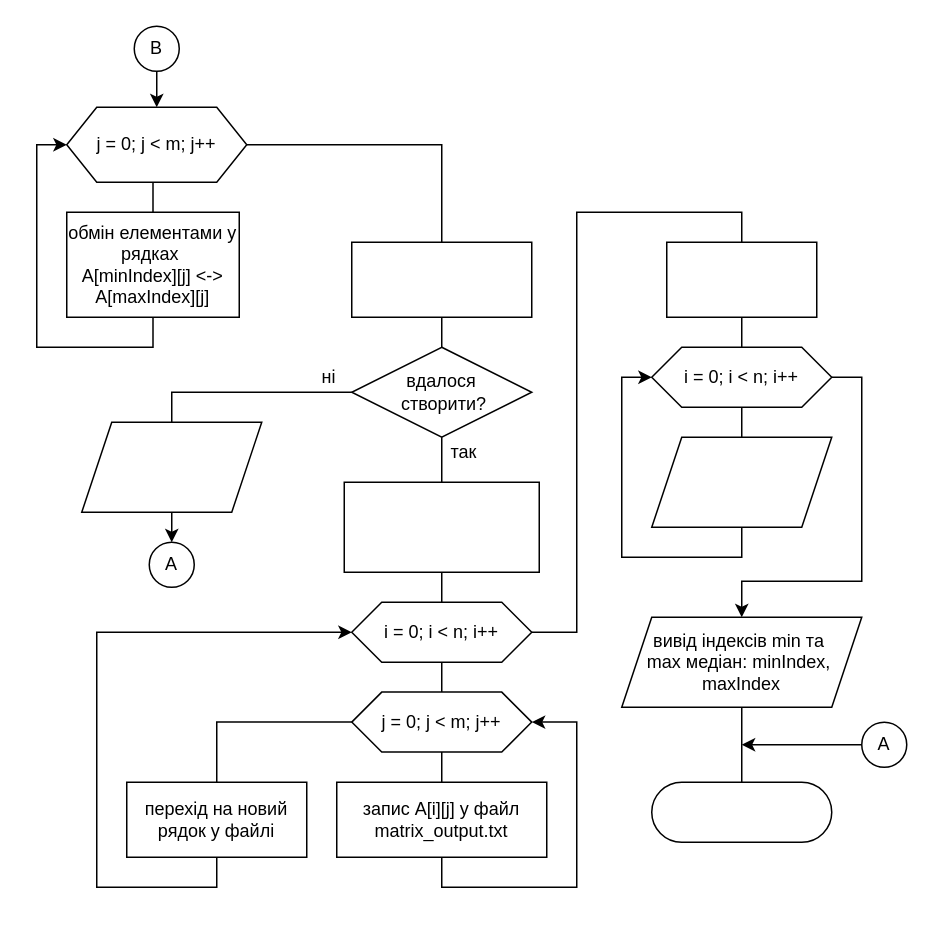
Some shapes in this 933 by 926 pixel diagram are drawn without their labels. Each missing label, with the centre of its shape:
вивід медіан по рядках: medians[i]: point 741,481
задавання форматування виводу: fixed та setprecision(2): point 441,526
Закриття файлу matrix_output.txt: point 741,279
КІНЕЦЬ: point 741,811
помилка створення файлу: point 171,466
створення файлу matrix_output.txt: point 441,279
